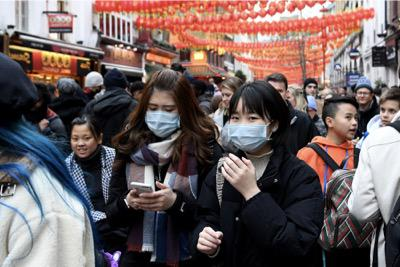with_mask: (226, 108, 267, 152), (144, 101, 179, 139)
without_mask: (334, 109, 358, 140), (69, 131, 96, 158), (378, 105, 398, 125), (354, 88, 370, 105), (220, 91, 233, 108), (304, 85, 317, 96)
